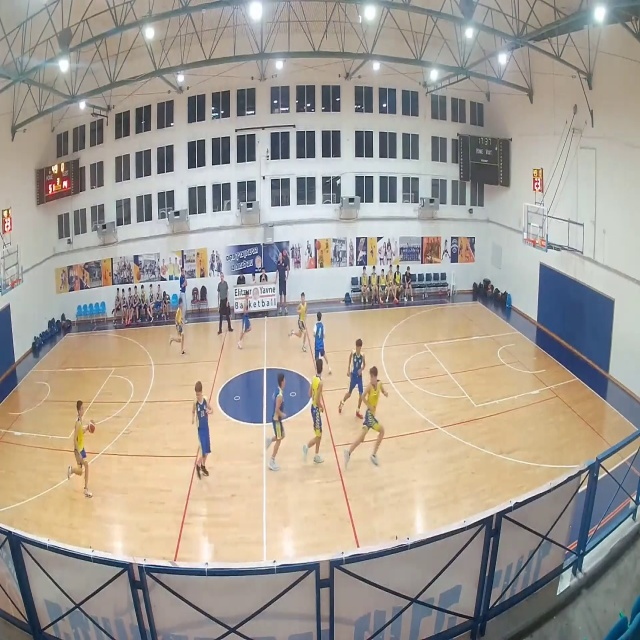Basketball: (88, 424, 95, 433)
